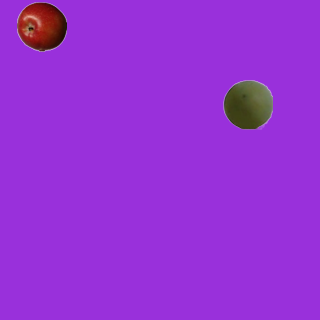Apple Braeburn: (16, 1, 66, 51)
Grape White 4: (222, 79, 272, 129)
